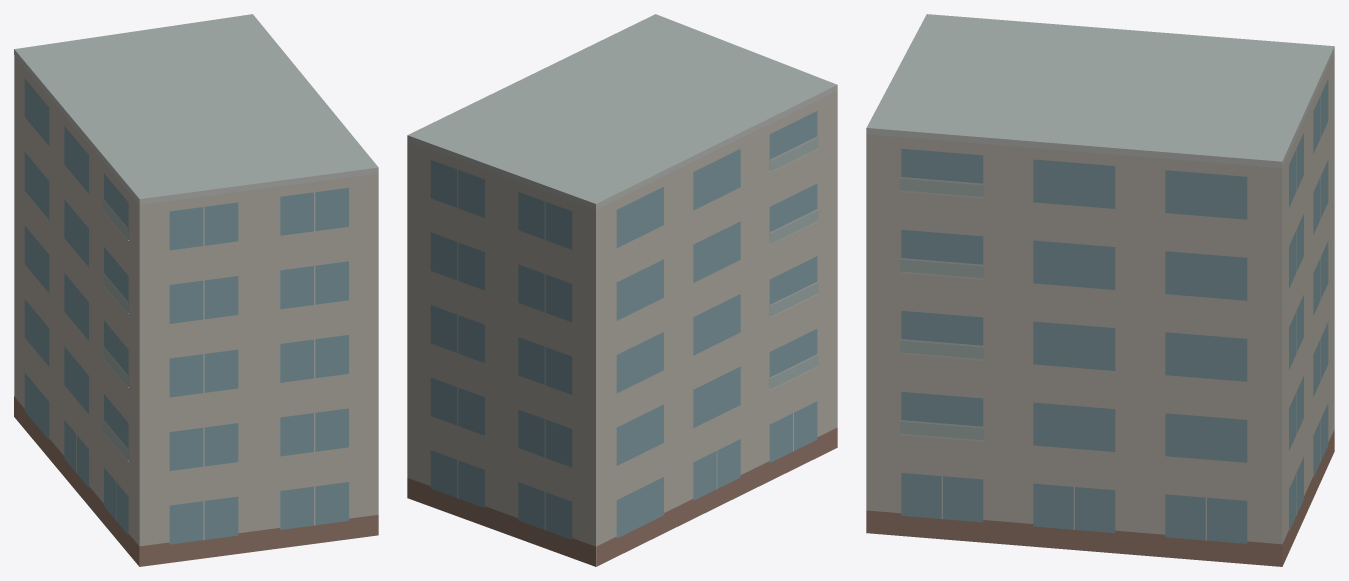
The model's file is survey-upis-32719660.glb.
3 views of the same model, side by side, from view 1: azimuth 30°, elevation 25°; view 2: azimuth 150°, elevation 25°; view 3: azimuth 270°, elevation 25° (orthographic). The views are drawn at different scales.
Visible parts, largest first — view 1: survey-upis-32719660.tmp; view 2: survey-upis-32719660.tmp; view 3: survey-upis-32719660.tmp.
Boxes of the visible parts, left/top/right/bottom form: survey-upis-32719660.tmp: left=14, top=14, right=378, bottom=566; survey-upis-32719660.tmp: left=407, top=14, right=837, bottom=566; survey-upis-32719660.tmp: left=866, top=14, right=1334, bottom=566.
Bounding box in the file's own units: 12.01 × 15.35 × 16.08.
